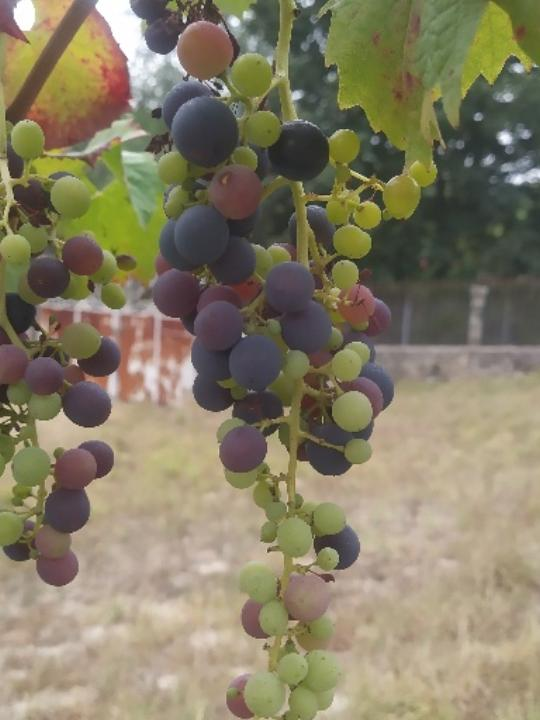grape: (132, 0, 437, 720), (0, 28, 135, 592)
